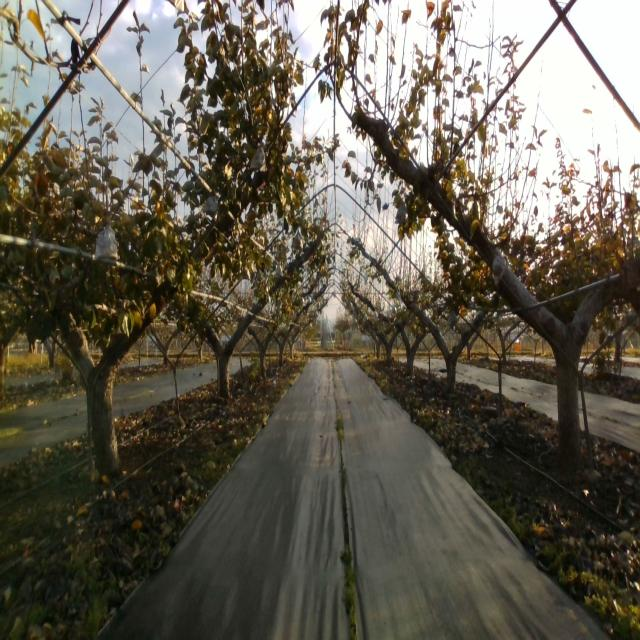pearbags: (95, 214, 118, 261), (201, 190, 219, 222), (492, 246, 506, 287), (250, 142, 268, 173), (395, 202, 409, 224), (447, 308, 457, 327)
